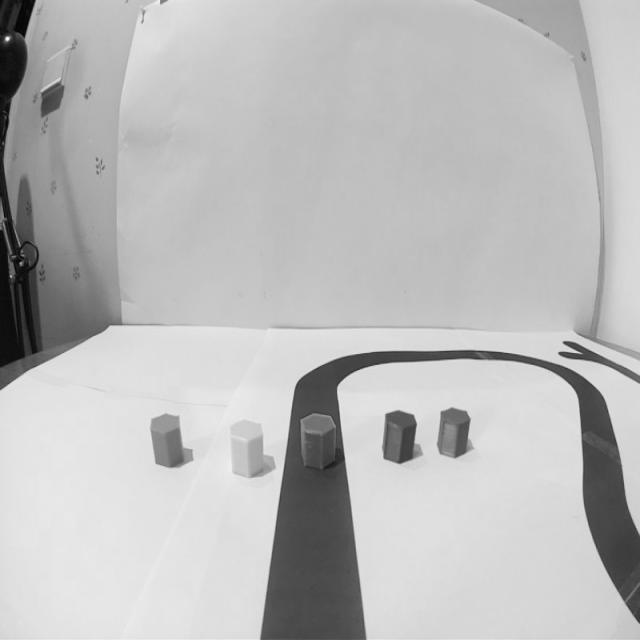hexagon: (226, 416, 268, 485), (296, 409, 340, 472), (147, 407, 187, 473), (381, 406, 418, 468), (436, 404, 472, 464)
lineStraight: (248, 480, 379, 640)
